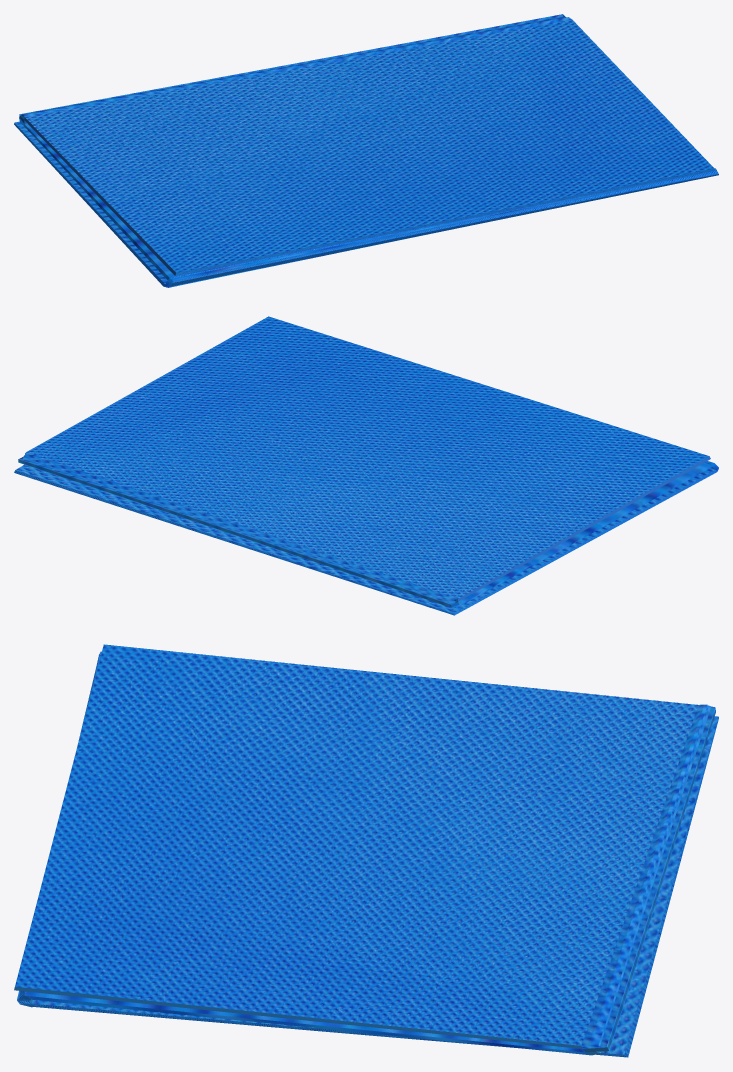
File: Fold_Cloth.fbx
3 renders of one model, top to bottom at view 1: azimuth 30°, elevation 25°; view 2: azimuth 150°, elevation 25°; view 3: azimuth 270°, elevation 25°, orthographic. The views are drawn at different scales.
Parts seen in each view (by area): view 1: Cube; view 2: Cube; view 3: Cube.
Boxes of the visible parts, left/top/right/bottom form: Cube: left=14, top=14, right=718, bottom=287; Cube: left=14, top=316, right=718, bottom=615; Cube: left=14, top=644, right=718, bottom=1057.
Size of the model in its own units: 18.87 by 0.916 by 14.2.
Materials: 1 (1 with a texture image).
